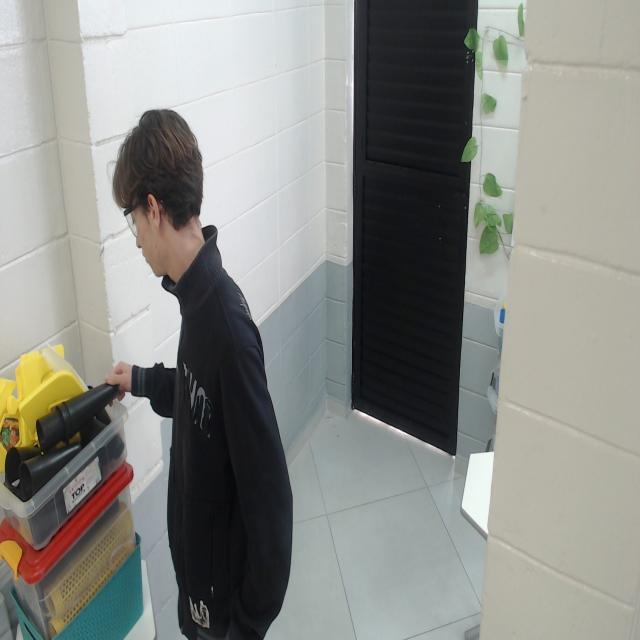oculos-epi: (123, 204, 141, 240)
